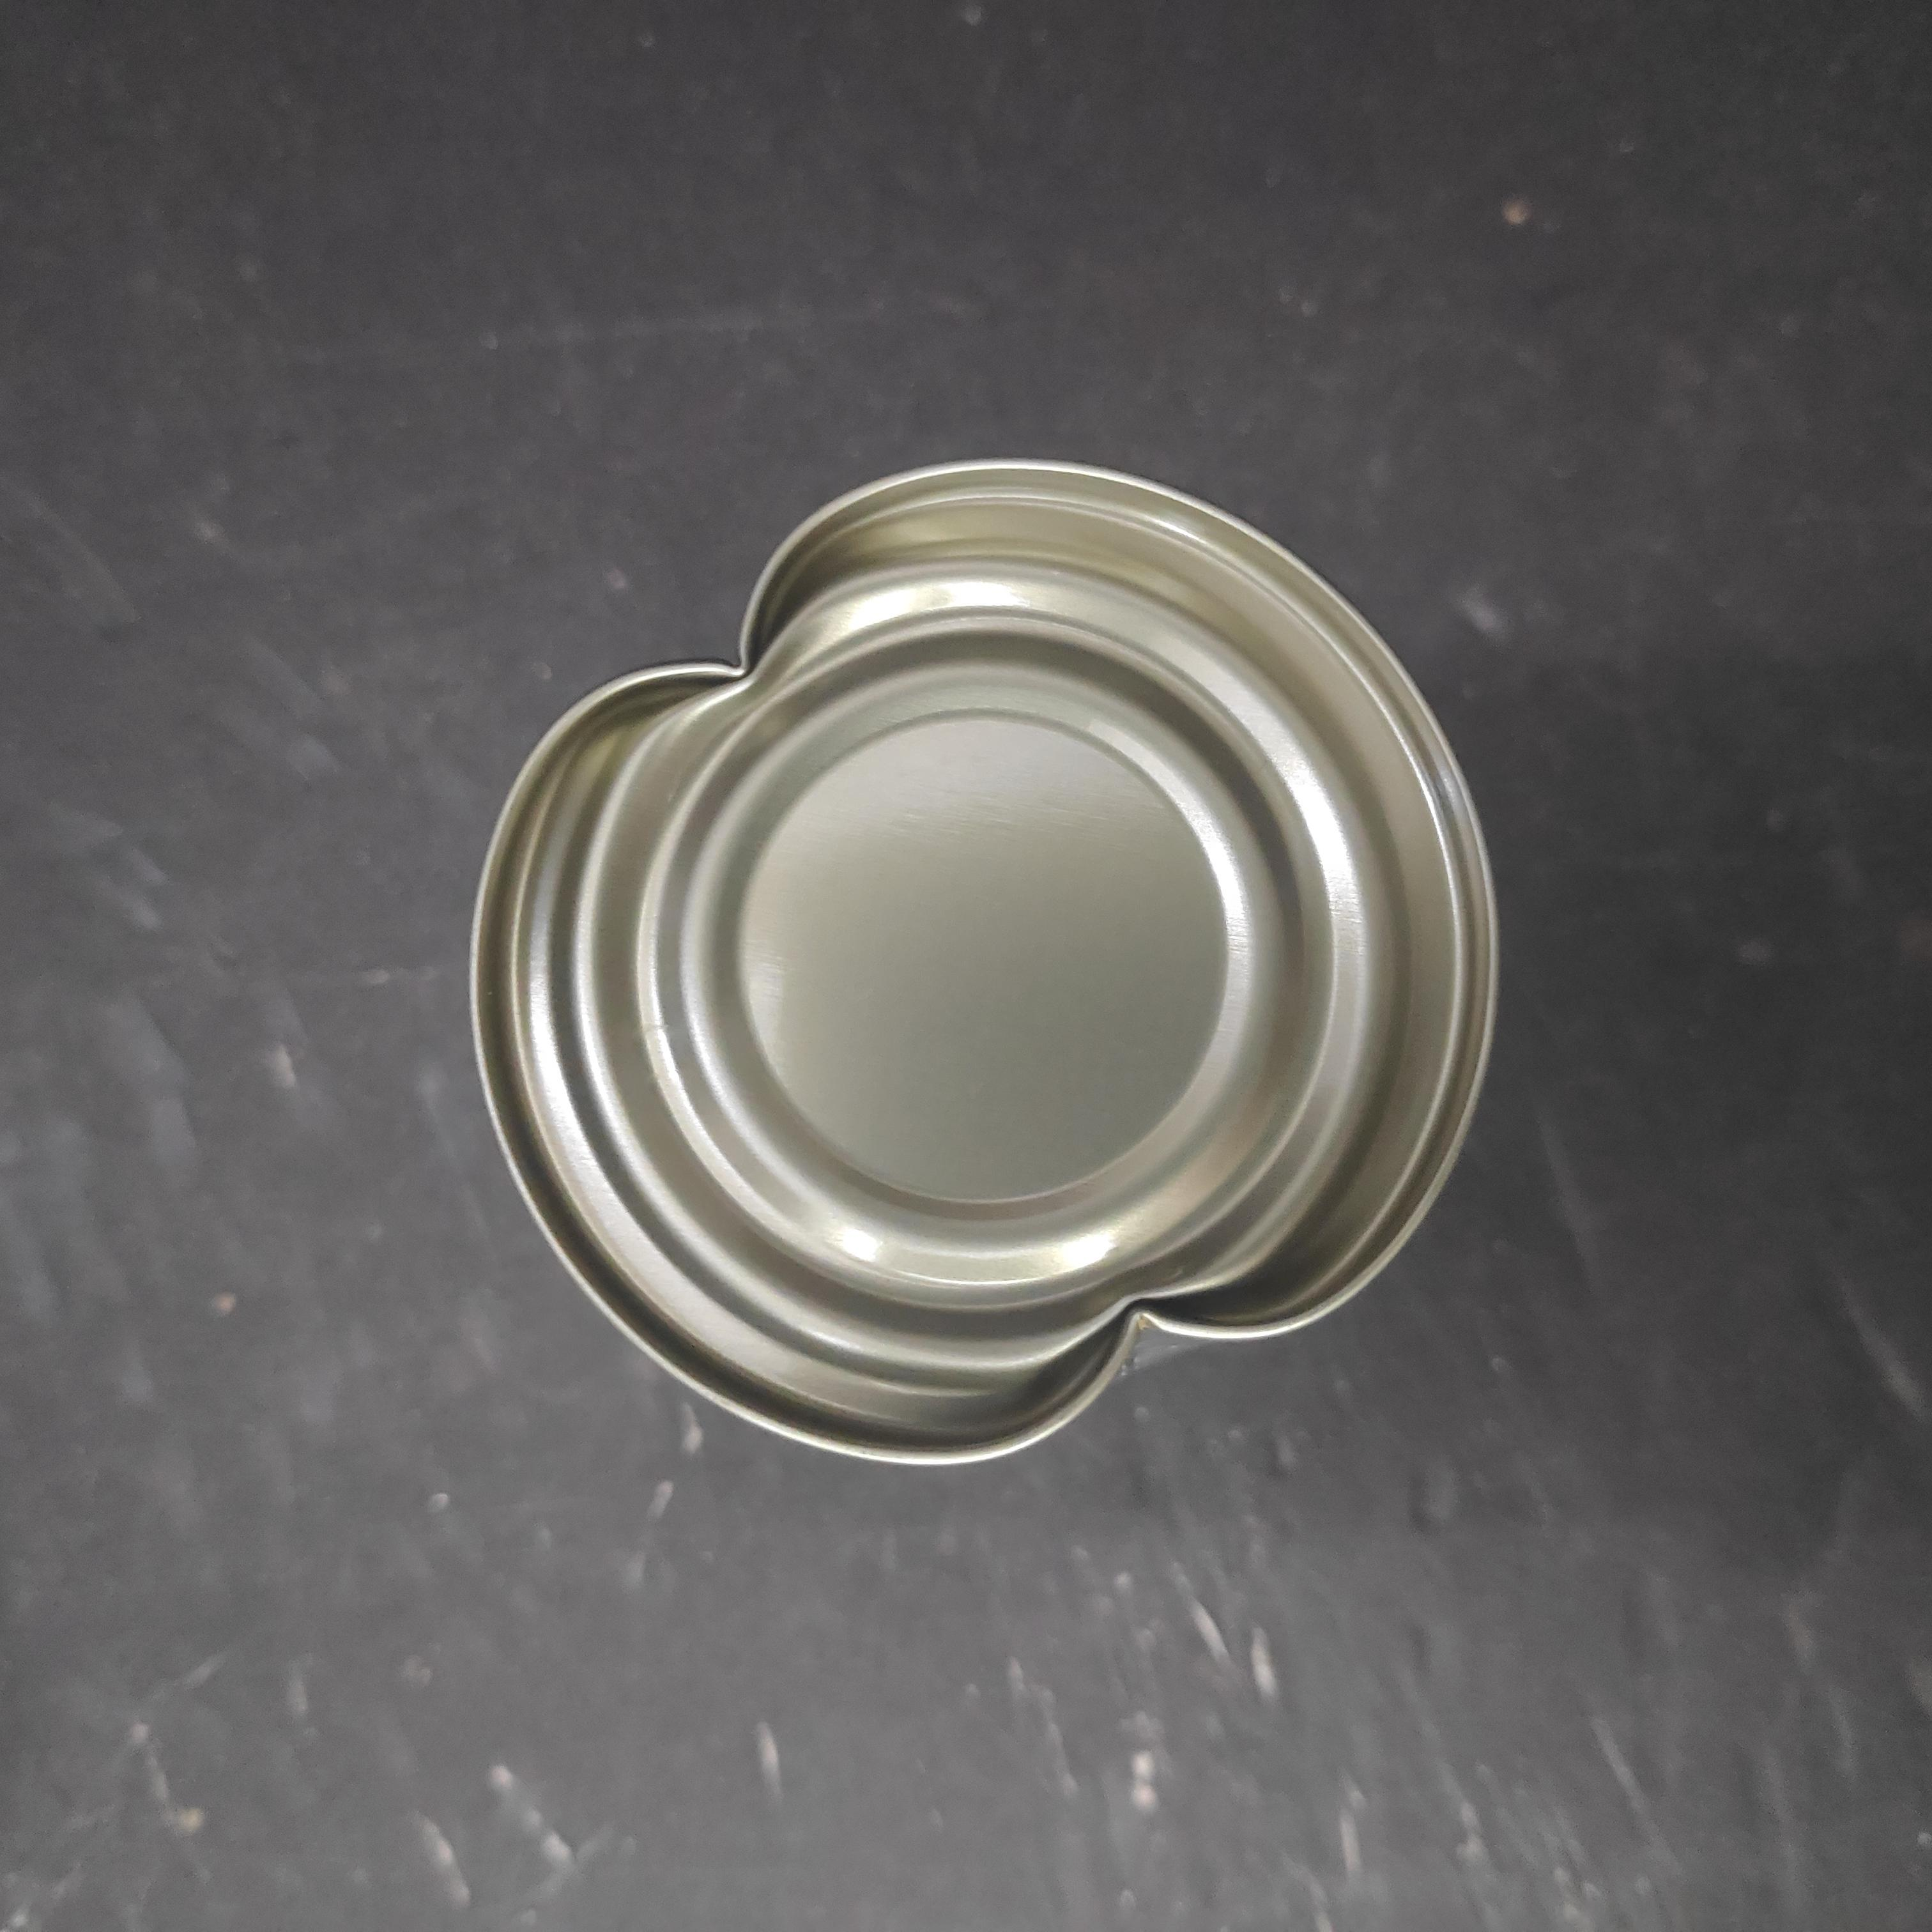Critical Defect: (419, 455, 1472, 1491)
